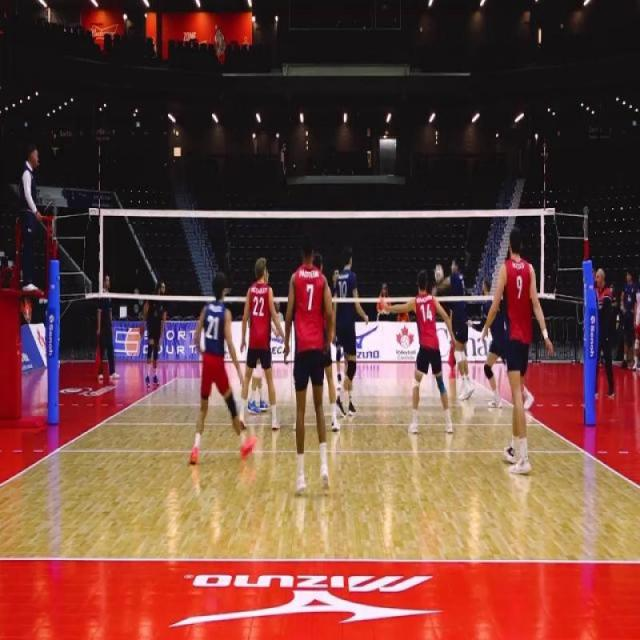volleyball: (434, 263, 444, 284)
